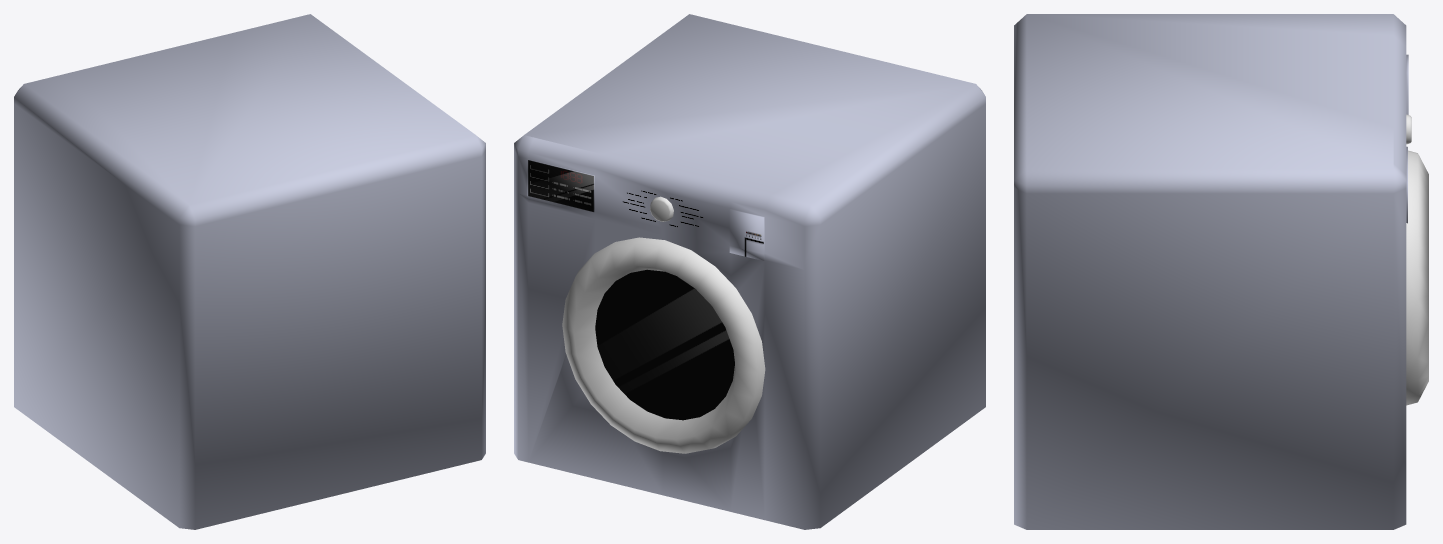
File: WasherDryerTest.fbx
3 renders of one model, left to right at view 1: azimuth 30°, elevation 25°; view 2: azimuth 150°, elevation 25°; view 3: azimuth 270°, elevation 25°, orthographic. The views are drawn at different scales.
Visible parts, largest first — view 1: Cube; view 2: Cube, Torus.001; view 3: Cube, Torus.001.
Boxes of the visible parts, <box> form: Cube: <box>14,14,485,529</box>; Cube: <box>514,14,985,529</box>; Torus.001: <box>562,196,765,453</box>; Cube: <box>1014,14,1408,529</box>; Torus.001: <box>1406,114,1428,405</box>.
Size of the model in its own units: 200 by 200 by 212.
